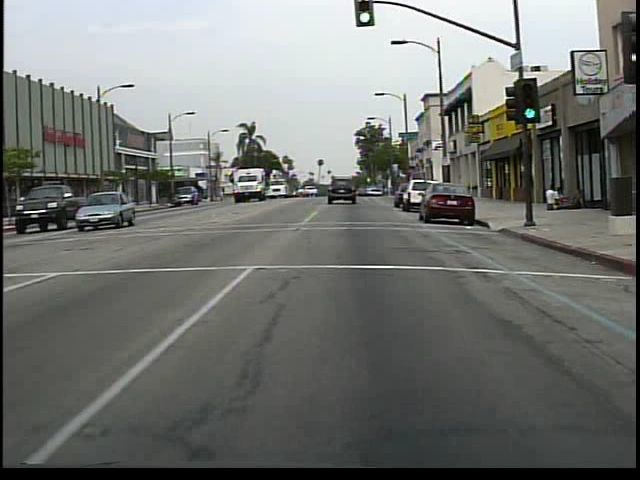person: (541, 183, 558, 213)
